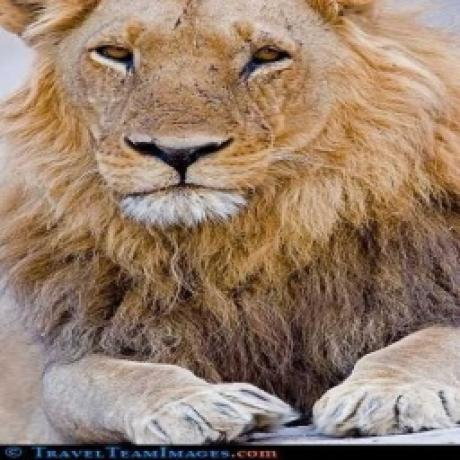Lion: (0, 0, 460, 448)
